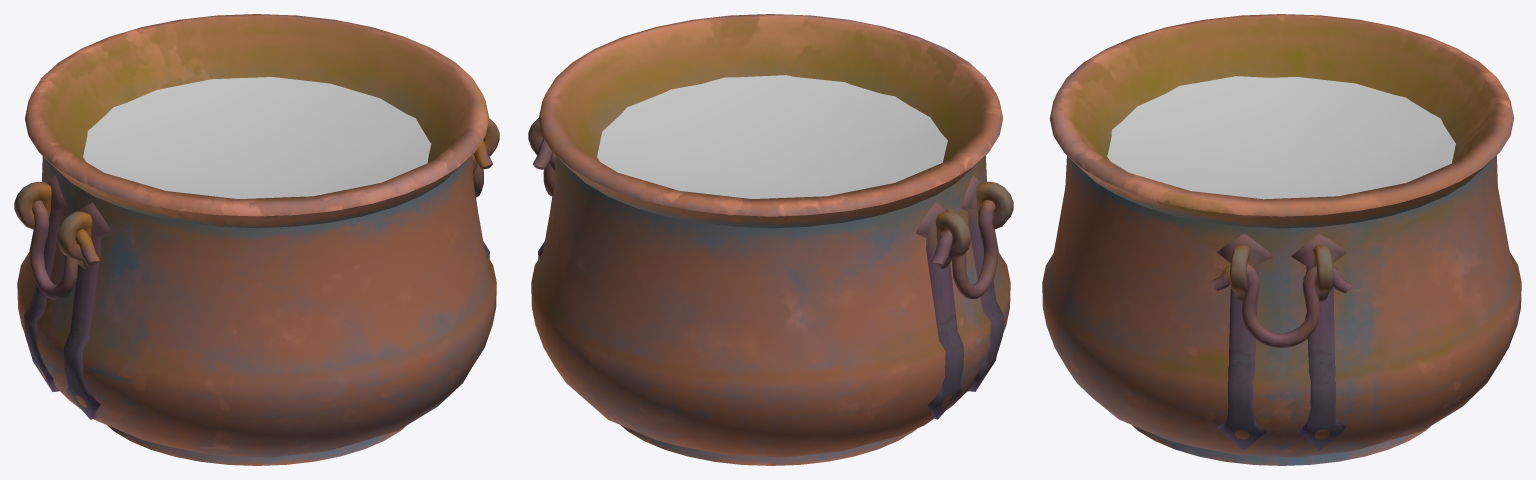
Rendered from SM_Potion_Props_Pot_02_B.fbx.
3 renders of one model, left to right at view 1: azimuth 30°, elevation 25°; view 2: azimuth 150°, elevation 25°; view 3: azimuth 270°, elevation 25°, orthographic.
Visible parts, largest first — view 1: SM_Potion_Props_Pot_02_B_LOD0; view 2: SM_Potion_Props_Pot_02_B_LOD0; view 3: SM_Potion_Props_Pot_02_B_LOD0.
Part boxes in pixels (box(x1,y1,x2,y2)): SM_Potion_Props_Pot_02_B_LOD0: box(14, 14, 499, 465); SM_Potion_Props_Pot_02_B_LOD0: box(528, 14, 1013, 465); SM_Potion_Props_Pot_02_B_LOD0: box(1042, 14, 1521, 465).
Size of what is drawn, in the model's own units: 48.59 by 30.45 by 45.97.
